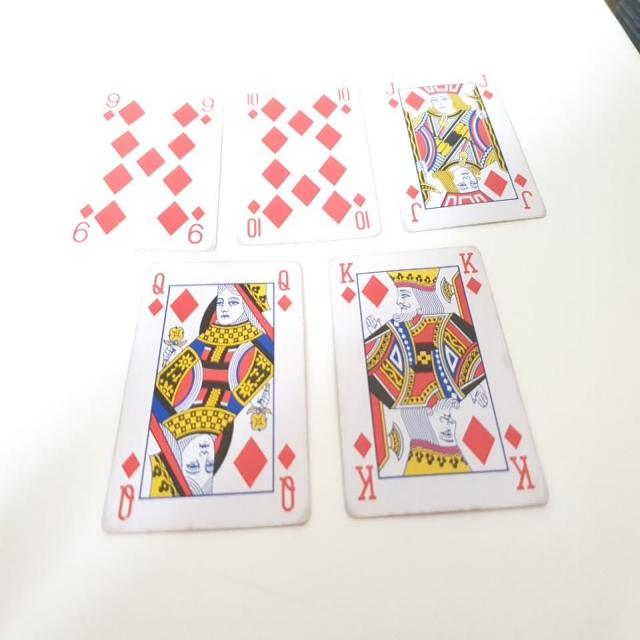10 Diamonds: (236, 75, 382, 244)
9 Diamonds: (61, 88, 226, 255)
J Diamonds: (374, 64, 548, 233)
K Diamonds: (326, 242, 553, 520)
Q Diamonds: (97, 260, 314, 530)
